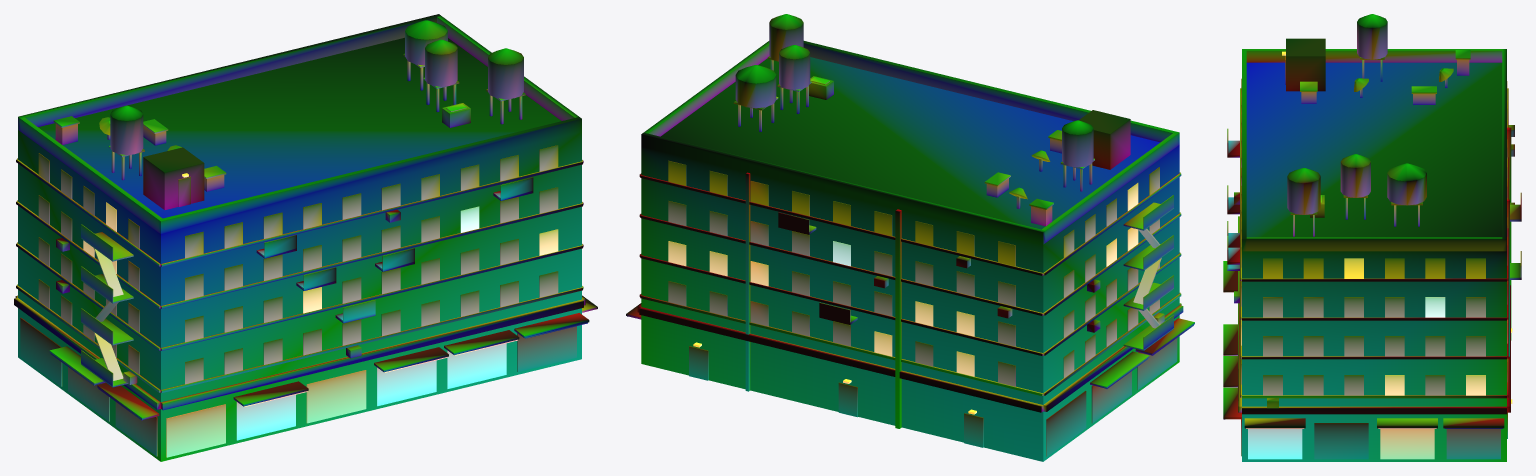
Rendered from Block_Housing_V1.fbx.
The picture shows the model from 3 angles, left to right: view 1: azimuth 30°, elevation 25°; view 2: azimuth 150°, elevation 25°; view 3: azimuth 270°, elevation 25°; orthographic projection. The views are drawn at different scales.
Visible parts, largest first — view 1: Block_Housing_V1_LOD0; view 2: Block_Housing_V1_LOD0; view 3: Block_Housing_V1_LOD0.
Boxes of the visible parts, <box> form: Block_Housing_V1_LOD0: <box>14,14,597,461</box>; Block_Housing_V1_LOD0: <box>626,14,1194,461</box>; Block_Housing_V1_LOD0: <box>1223,14,1521,461</box>.
Size of what is drawn, in the model's own units: 37.1 by 22.83 by 22.5.
